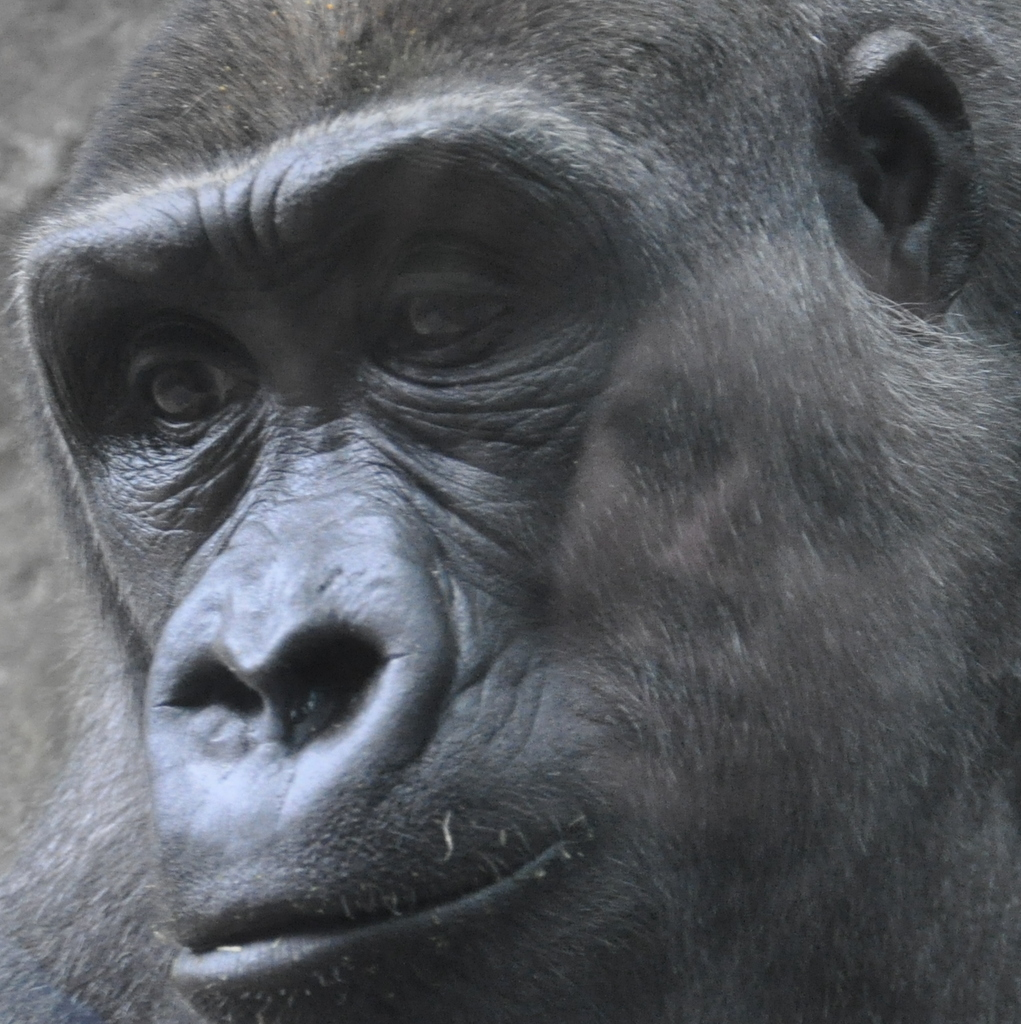Animal: (0, 0, 1019, 1022)
